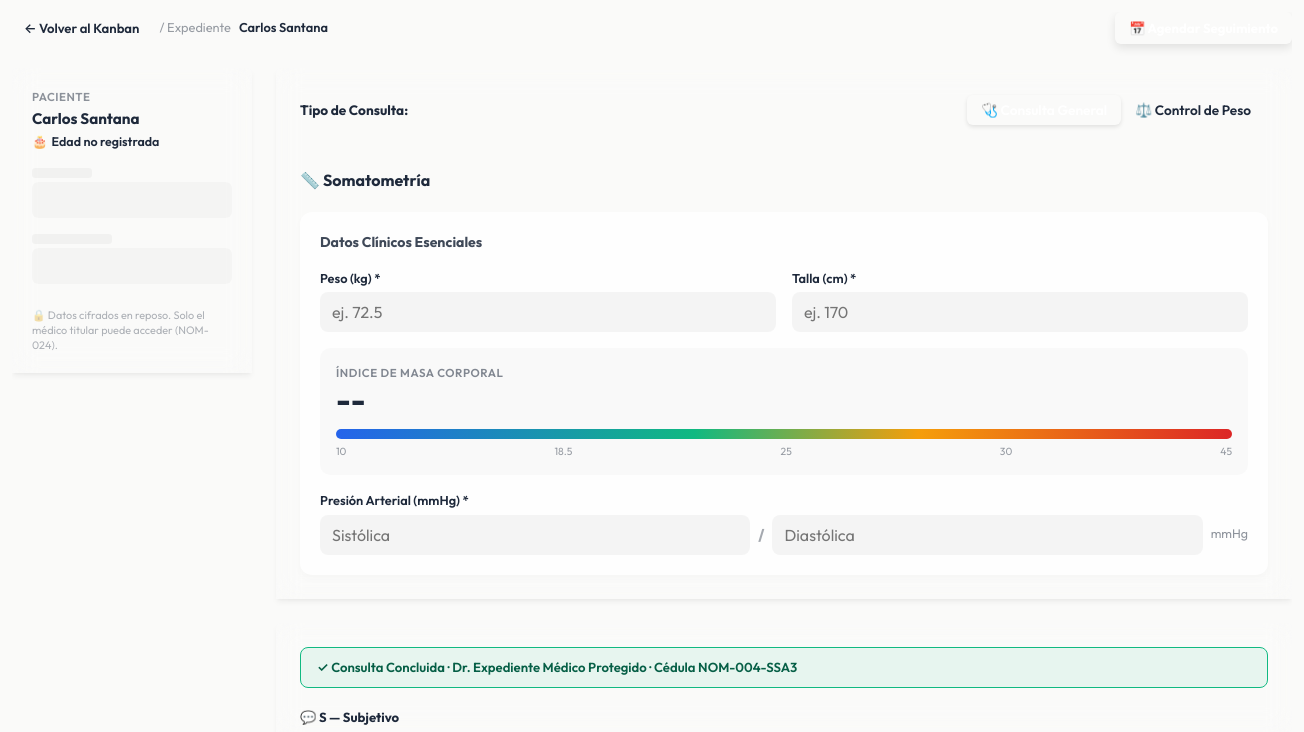
Test: PatientRecord Component - Triage Decryption & Auditing › allows clicking tabs in historical/completed consultations and auto-detects weight control data
// Fire click to switch tab
Step 1. Click the button "⚖️ Control de Peso" → (1193, 110), box [1121,95,1265,125]
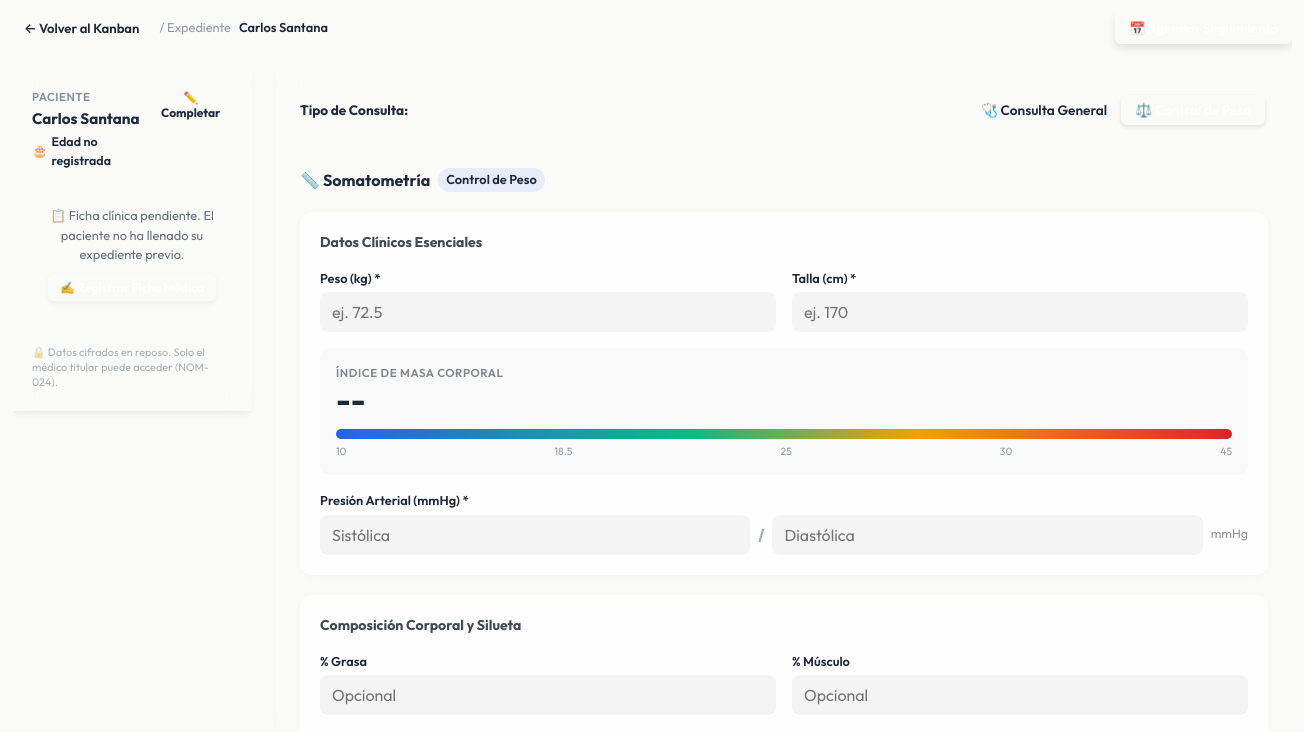
Result: the heading "Composición Corporal y Silueta" is shown at [320,616,522,634]
